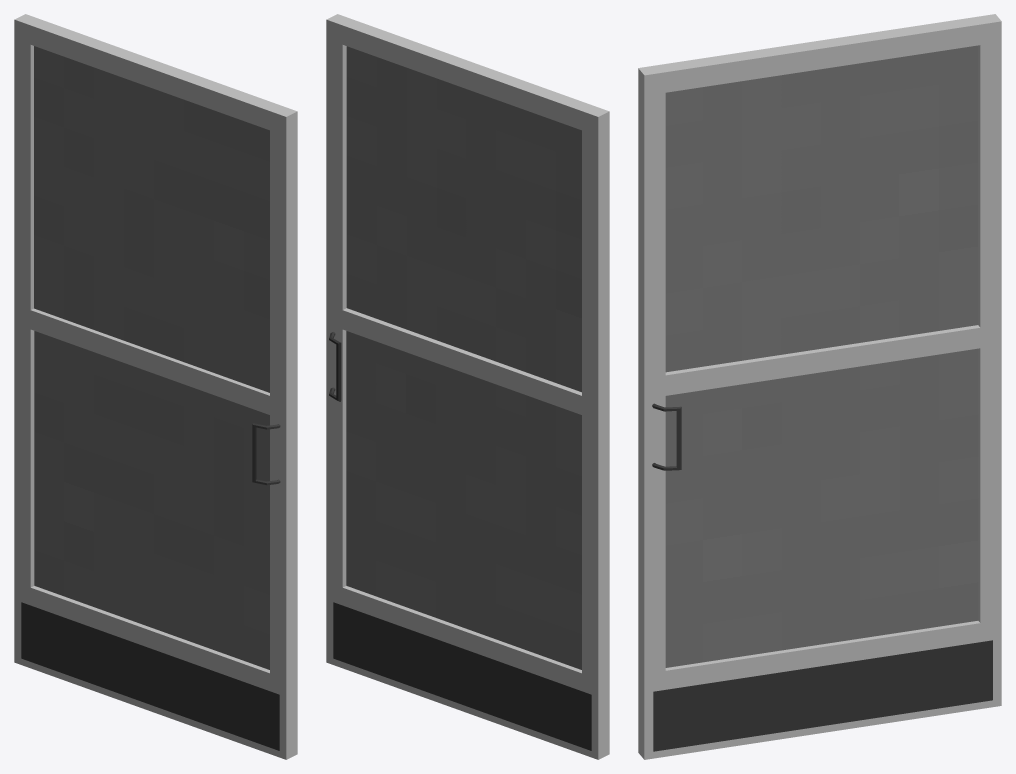
The model's file is SW_corridor__R_lobby_R_Aula_Ovi_2_Ikkunaa_005.FBX.
3 views of the same model, side by side, from view 1: azimuth 30°, elevation 25°; view 2: azimuth 210°, elevation 25°; view 3: azimuth 270°, elevation 25° (orthographic). The views are drawn at different scales.
Visible parts, largest first — view 1: SW_corridor__R_lobby_R_Aula_Ovi_2_Ikkunaa_005; view 2: SW_corridor__R_lobby_R_Aula_Ovi_2_Ikkunaa_005; view 3: SW_corridor__R_lobby_R_Aula_Ovi_2_Ikkunaa_005.
Part boxes in pixels (x1,y1,x2,y2): SW_corridor__R_lobby_R_Aula_Ovi_2_Ikkunaa_005: (14,14,297,759); SW_corridor__R_lobby_R_Aula_Ovi_2_Ikkunaa_005: (326,14,609,759); SW_corridor__R_lobby_R_Aula_Ovi_2_Ikkunaa_005: (638,14,1001,759).
Bounding box in the file's own units: 41.35 × 98.18 × 204.
